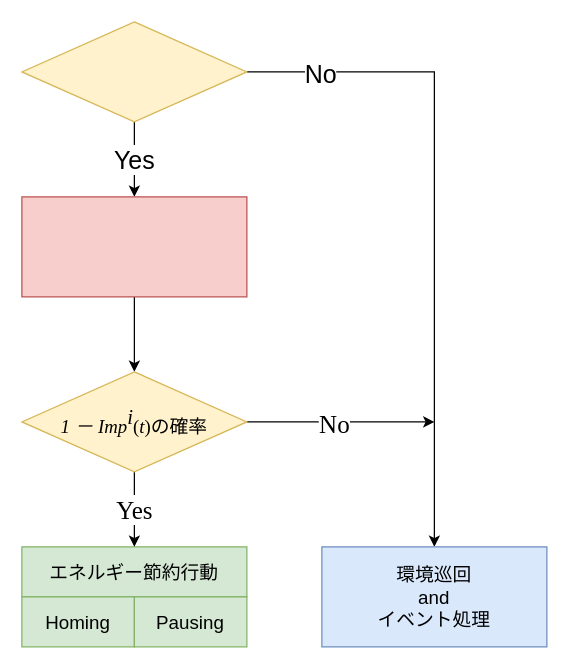
Image size: 569x669. Some labels were removed from this diagram. Here are the shapes that lost their labels. From the top down, the box of each, then its label:
(21, 21, 247, 122): 要求充足の判断
(21, 196, 247, 297): 自己重要度 Imp i ( t ) の計算
